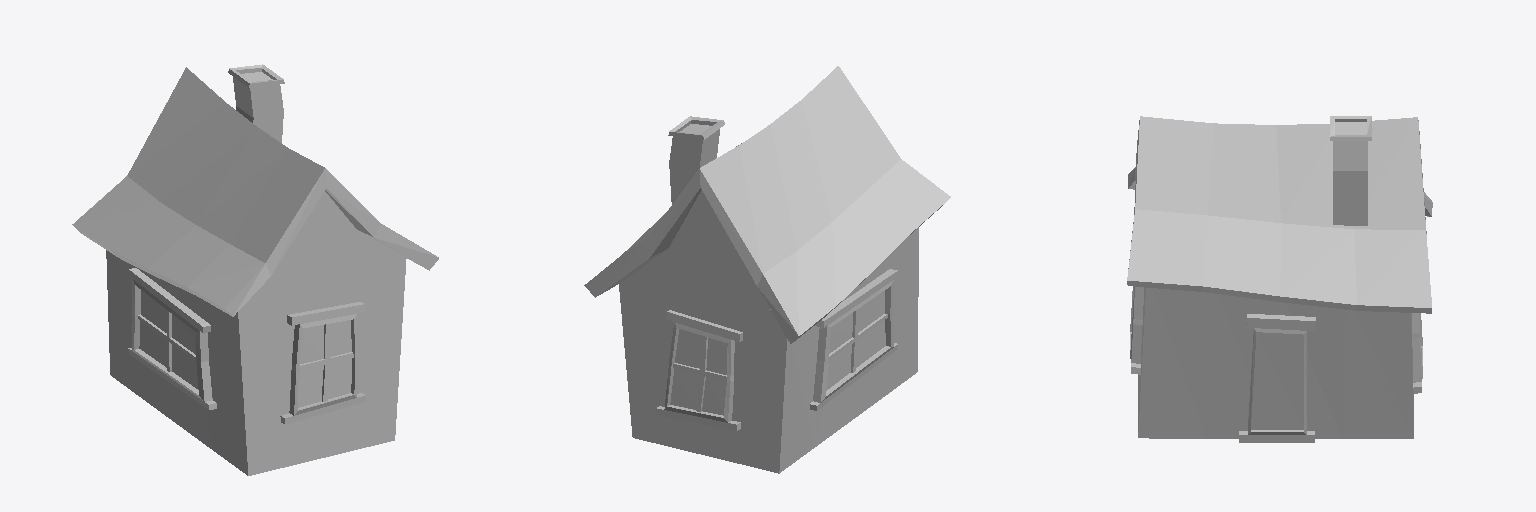
Rendered from cottage1.obj.
The picture shows the model from 3 angles: view 1: azimuth 30°, elevation 25°; view 2: azimuth 150°, elevation 25°; view 3: azimuth 270°, elevation 25°; orthographic projection.
Visible parts, largest first — view 1: _3, _2, default, _1; view 2: _3, _2, default, _1; view 3: _2, _3, default.
Part boxes in pixels (bbox=[...]): _3: bbox=[106, 64, 406, 475]; _2: bbox=[72, 67, 438, 316]; default: bbox=[128, 268, 366, 424]; _1: bbox=[139, 290, 351, 407]; _3: bbox=[619, 116, 918, 473]; _2: bbox=[584, 66, 950, 343]; default: bbox=[655, 269, 897, 430]; _1: bbox=[670, 291, 885, 415]; _2: bbox=[1127, 116, 1432, 313]; _3: bbox=[1138, 116, 1413, 438]; default: bbox=[1130, 287, 1422, 442].
Size of the model in its own units: 3.83 by 5.09 by 4.72.